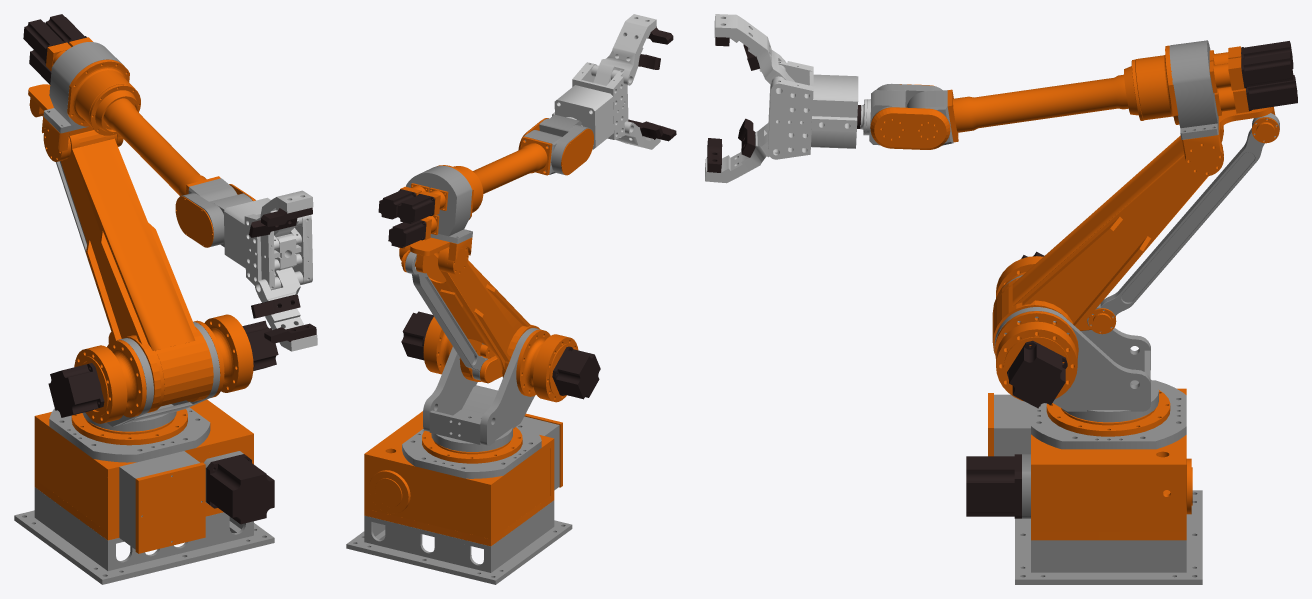
Rendered from JIXIE2.FBX.
The picture shows the model from 3 angles, left to right: view 1: azimuth 30°, elevation 25°; view 2: azimuth 150°, elevation 25°; view 3: azimuth 270°, elevation 25°; orthographic projection. The views are drawn at different scales.
Visible parts, largest first — view 1: Line014, Rectangle006 (×2), Rectangle007, Rectangle008, Line006 (×2), Line009, Line003 (×2), Cylinder009, Cylinder001, Line004 (×2), Line008, Line012 (+15 smaller); view 2: Rectangle007, Rectangle006, Line012, Line014, Line005 (×2), Line006 (×2), Line009, 图形002, Line001, 图形001, Cylinder011, Cylinder001 (+13 smaller); view 3: Rectangle007, Line014, Rectangle006, Line012, Cylinder001, Line006 (×2), 图形001, Line003, 图形002, Line008, Cylinder009, Line001 (+13 smaller).
Part boxes in pixels (box(x1,y1,x2,y2)): Line014: box(60, 130, 213, 412); Rectangle006 (×2): box(14, 294, 300, 584); Rectangle007: box(34, 399, 253, 540); Rectangle008: box(135, 462, 205, 553); Line006 (×2): box(49, 258, 317, 462); Line009: box(74, 339, 146, 423); Line003 (×2): box(89, 84, 312, 290); Cylinder009: box(206, 454, 274, 524); Cylinder001: box(103, 98, 206, 196); Line004 (×2): box(67, 59, 296, 270); Line008: box(193, 314, 253, 397); Line012: box(82, 322, 220, 431); Rectangle007: box(364, 411, 554, 546); Rectangle006: box(346, 500, 572, 584); Line012: box(423, 328, 540, 451); Line014: box(408, 244, 539, 381); Line005 (×2): box(369, 14, 673, 513); Line006 (×2): box(402, 121, 660, 478); Line009: box(516, 329, 578, 402); 图形002: box(406, 165, 472, 243); Line001: box(552, 85, 613, 149); 图形001: box(405, 252, 488, 380); Cylinder011: box(552, 346, 600, 399); Cylinder001: box(473, 143, 547, 193); Rectangle007: box(1031, 388, 1186, 540); Line014: box(992, 127, 1223, 353); Rectangle006: box(1015, 490, 1202, 584); Line012: box(994, 275, 1158, 422); Cylinder001: box(953, 74, 1128, 132); Line006 (×2): box(705, 123, 1186, 449); 图形001: box(1087, 113, 1279, 332); Line003: box(768, 61, 813, 159); 图形002: box(1169, 40, 1218, 139); Line008: box(995, 311, 1078, 401); Cylinder009: box(966, 454, 1021, 518); Line001: box(811, 74, 858, 148).
Size of the model in its own units: 626 by 1394 by 1485.
